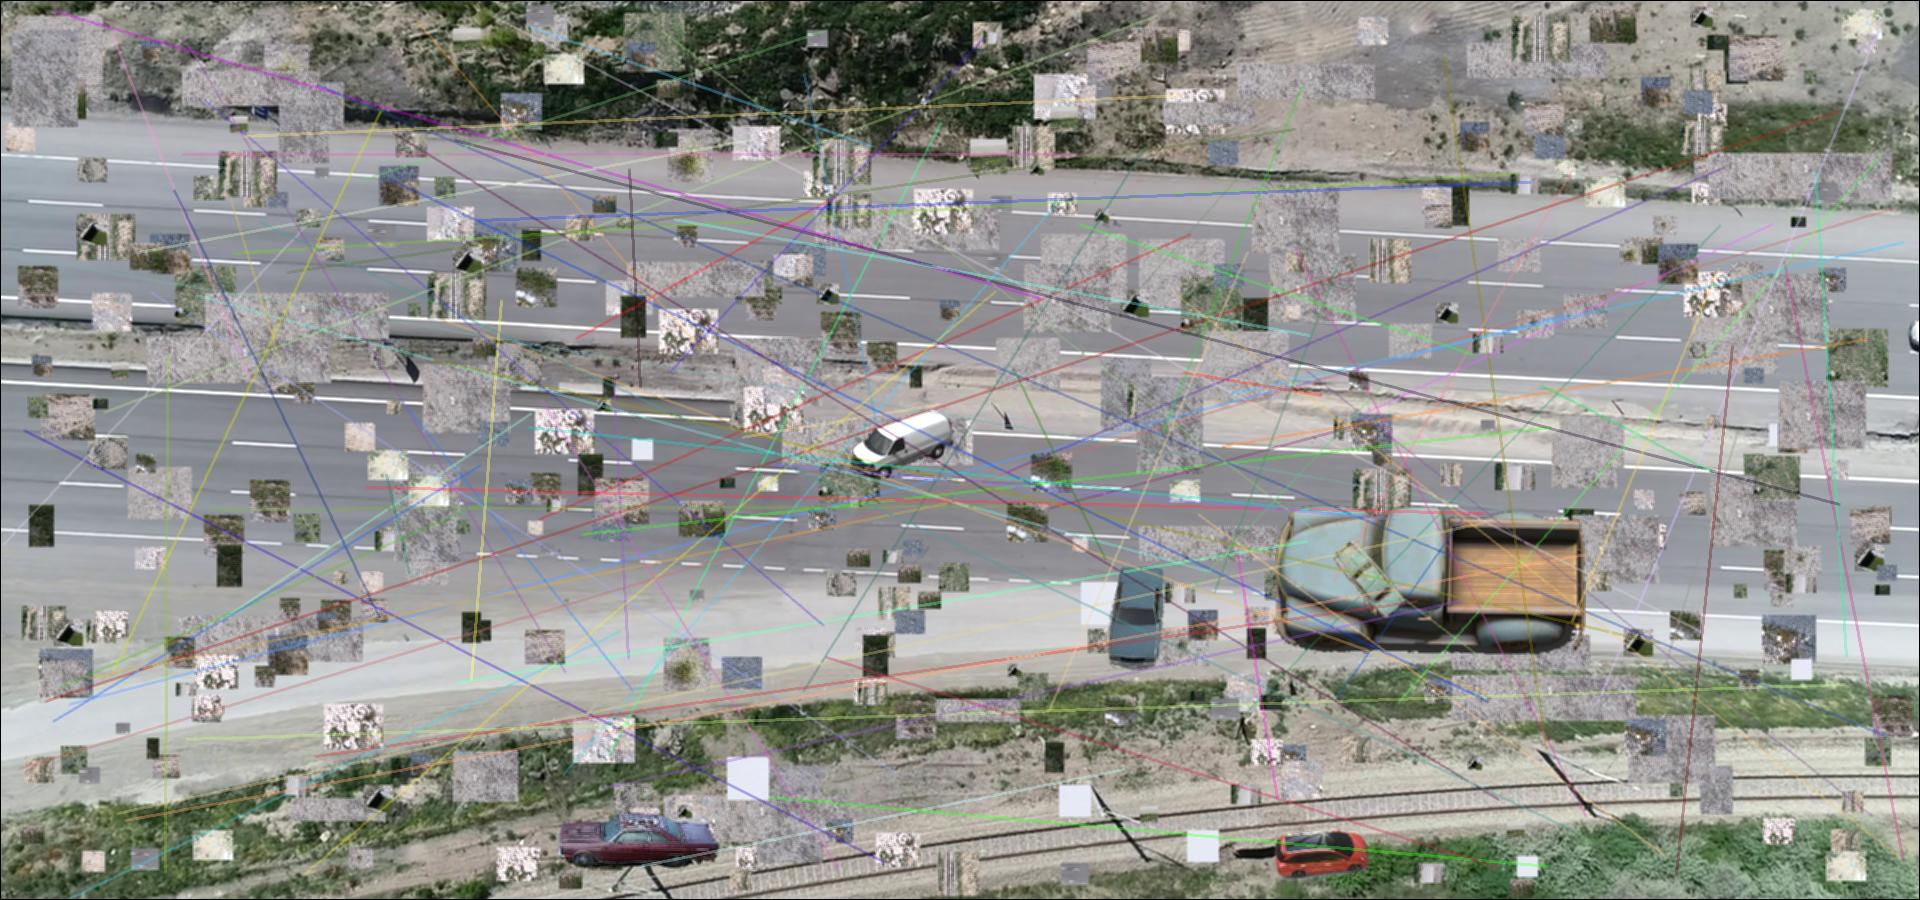arac: (1276, 495, 1588, 654), (556, 812, 721, 873), (852, 409, 953, 478), (1332, 538, 1408, 618), (1109, 564, 1167, 670), (1273, 827, 1369, 882)
